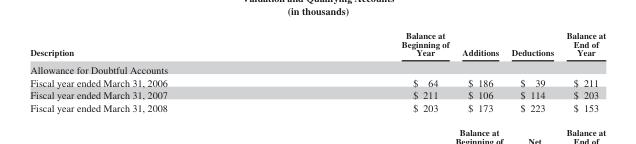table: (29, 29, 605, 113)
table column: (29, 29, 283, 113), (283, 29, 455, 113), (504, 29, 559, 113), (455, 29, 504, 113), (559, 29, 605, 113)
table column header: (29, 29, 605, 60)
table projected row header: (29, 60, 605, 75)
table row: (29, 29, 605, 60), (29, 60, 605, 75), (29, 75, 605, 88), (29, 88, 605, 101), (29, 101, 605, 113)
